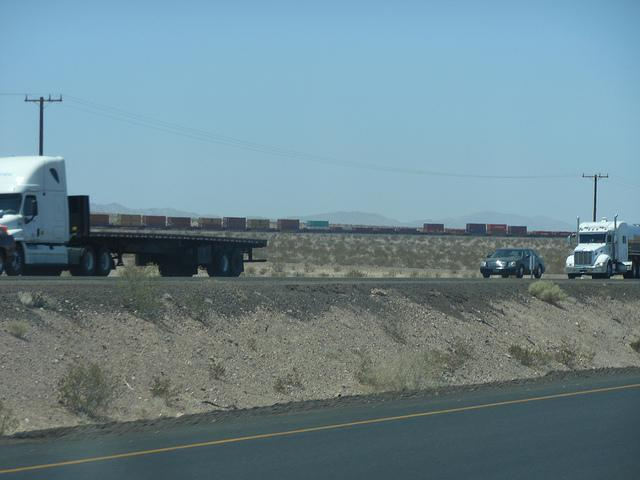Train: (90, 213, 577, 238)
